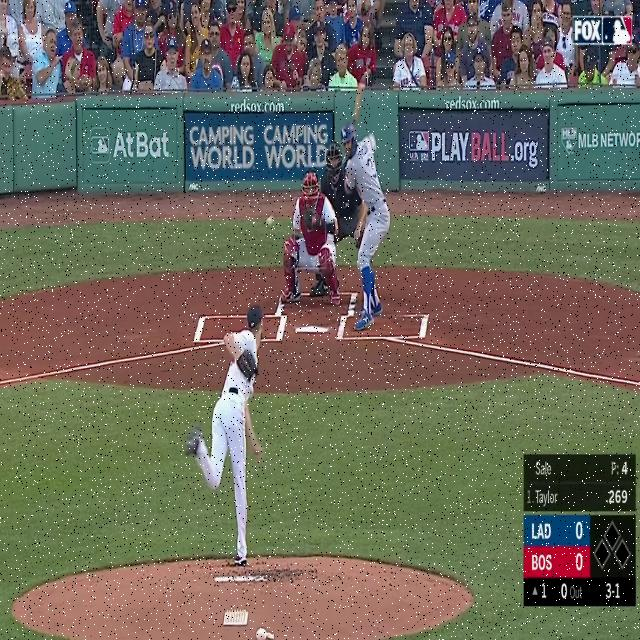baseball: (266, 215, 274, 227)
